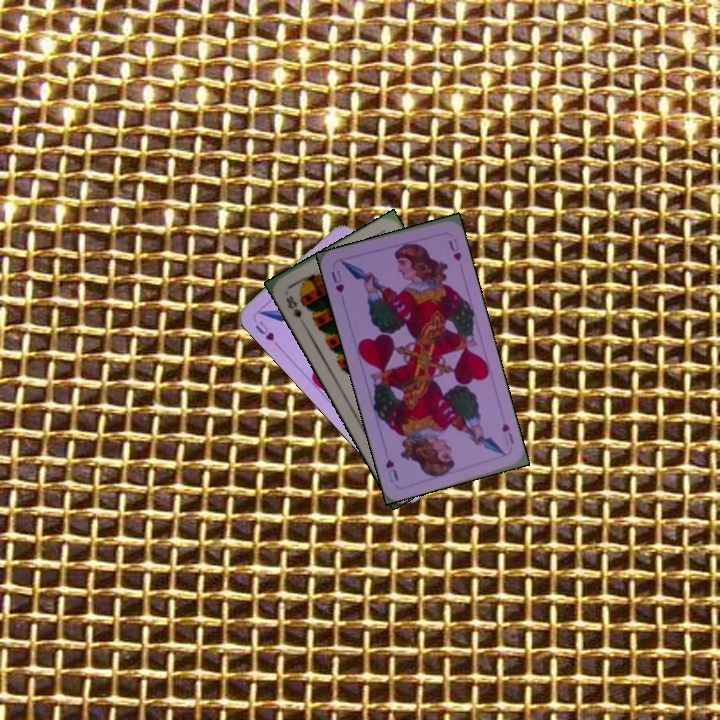HU: (251, 317, 277, 344), (327, 266, 347, 295), (498, 419, 517, 448)
S8: (282, 291, 304, 321)
